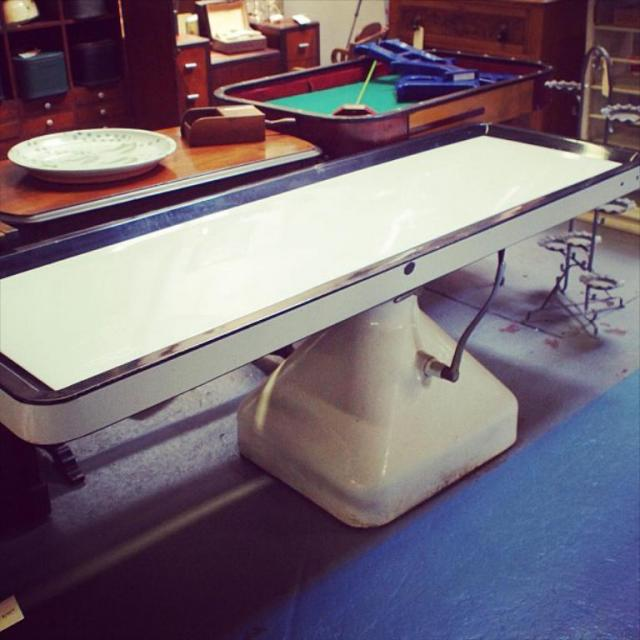table: (0, 125, 639, 531)
